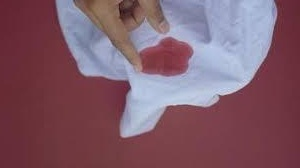blood: (142, 38, 193, 78)
